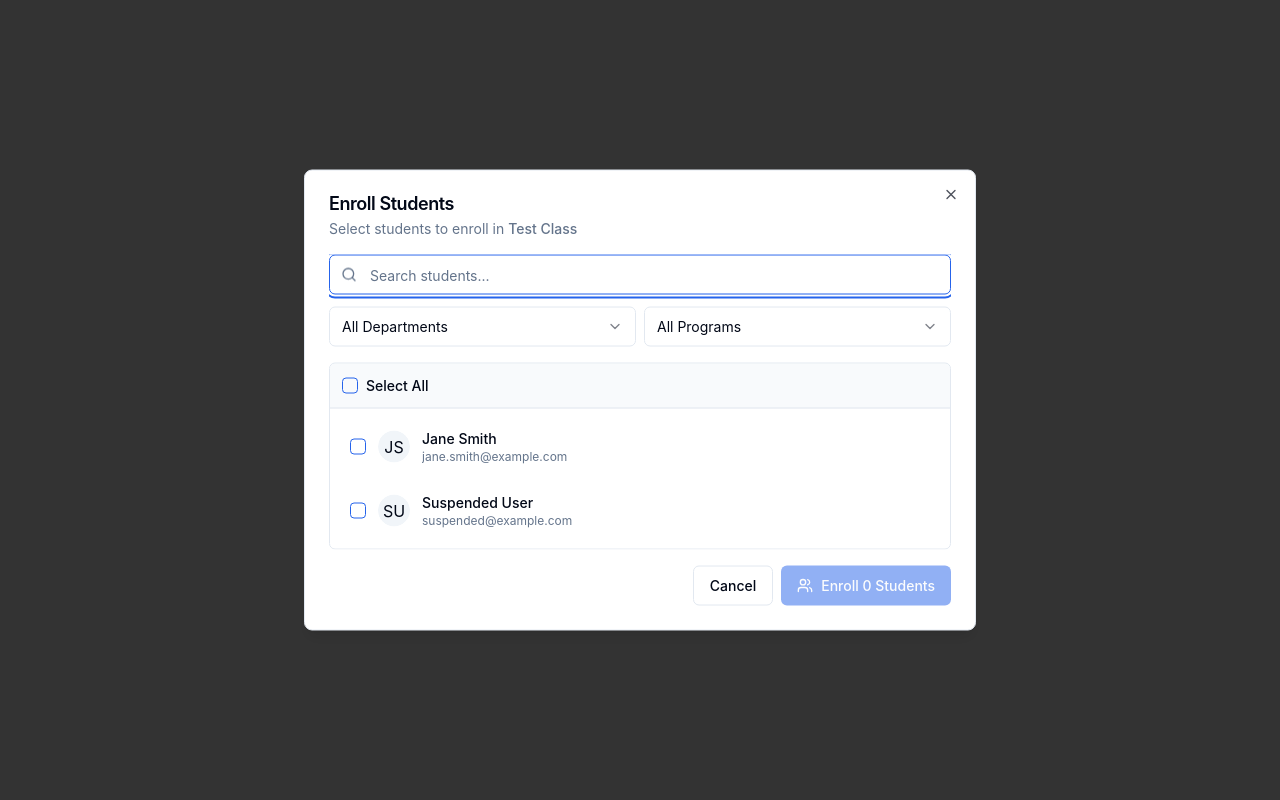
Test: EnrollStudentsDialog › displays error message on enrollment failure
The width and height of the screenshot is (1280, 800).
Check: the text "Jane Smith" is shown, box [422,430,497,446]
Click the checkbox named "Select all" at (350, 386), box [342,378,358,394]
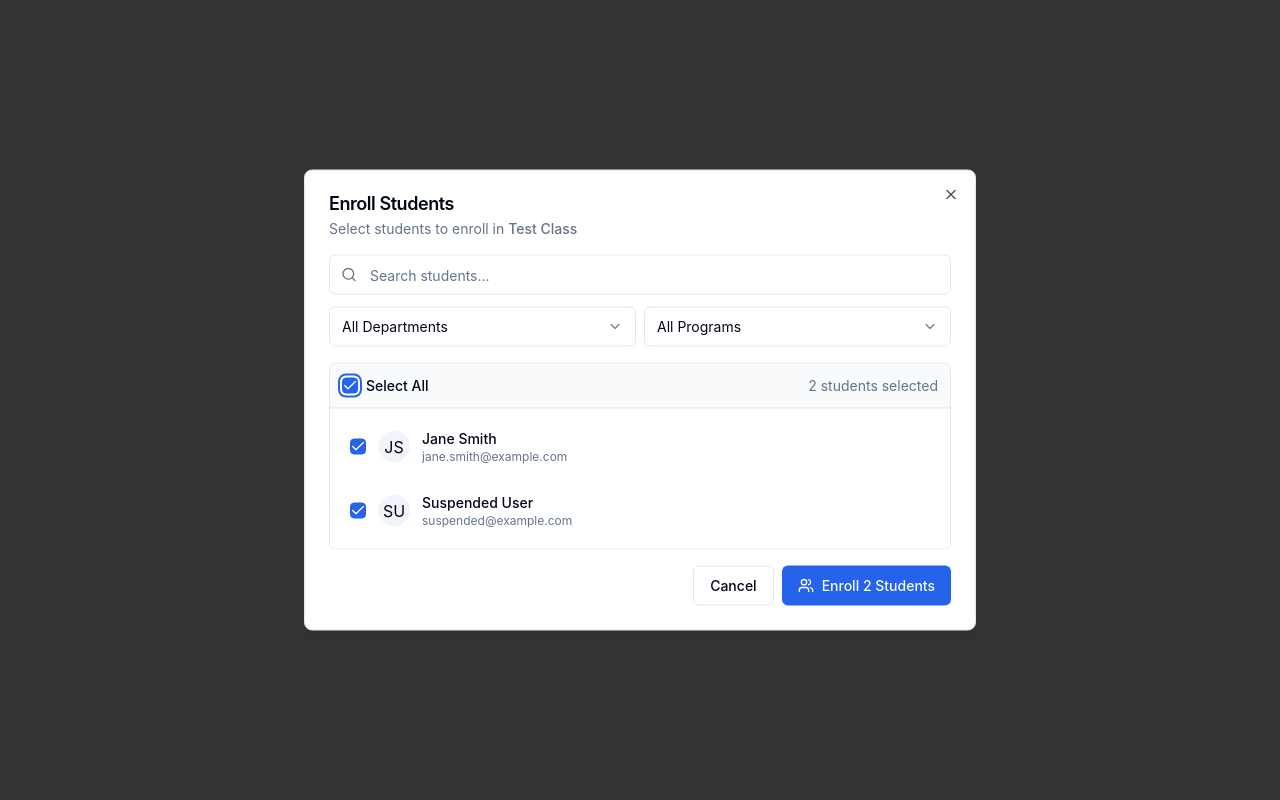
Click the button "Enroll 2 Students" at (866, 586), box [782,566,951,606]
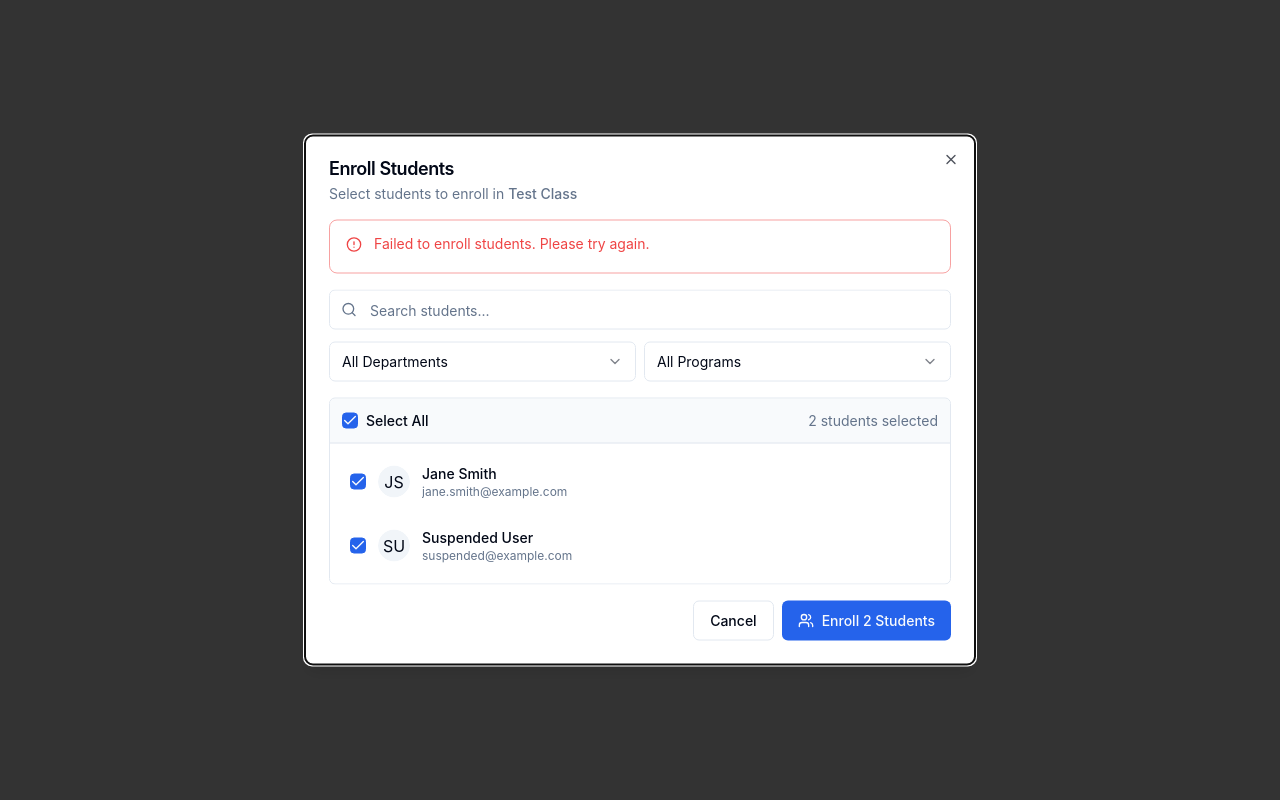
Check: the text "Failed to enroll students. Please try again." is shown, box [374,234,650,252]
